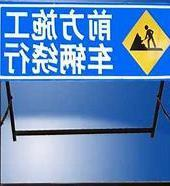sign: (1, 1, 170, 79)
